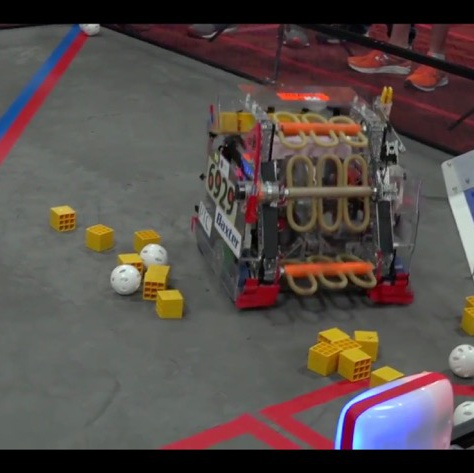robot: (188, 78, 427, 314)
